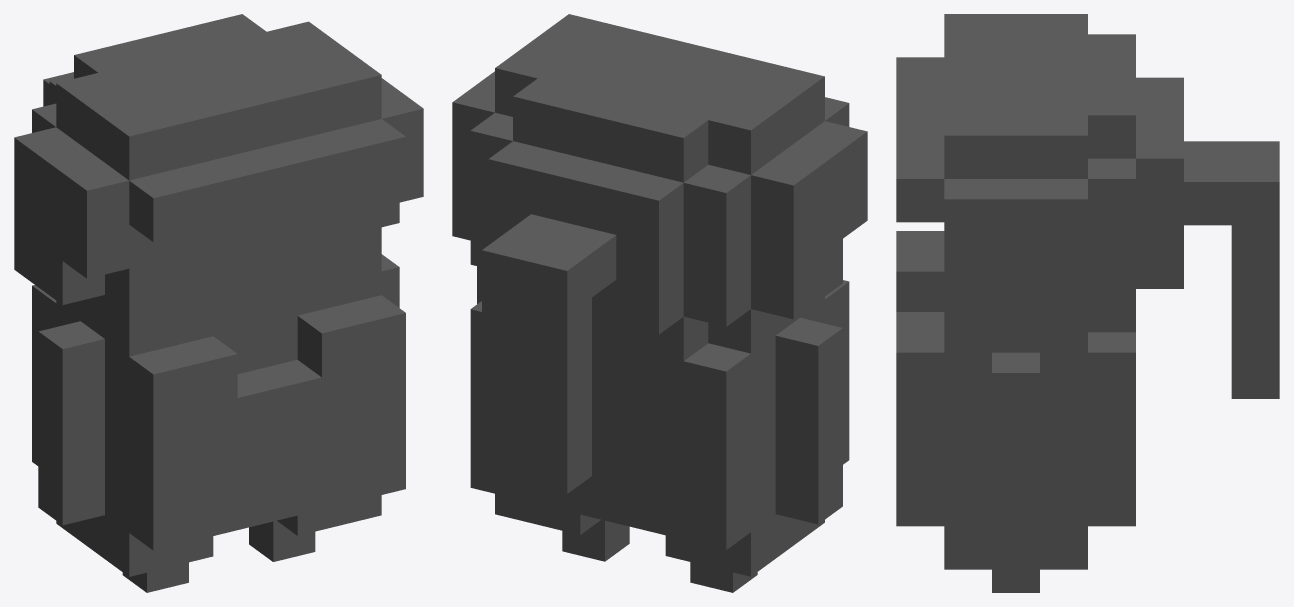
File: chr_naked3.obj
The picture shows the model from 3 angles, left to right: view 1: azimuth 30°, elevation 25°; view 2: azimuth 150°, elevation 25°; view 3: azimuth 270°, elevation 25°; orthographic projection. The views are drawn at different scales.
Size of the model in its own units: 8 by 11 by 8.
